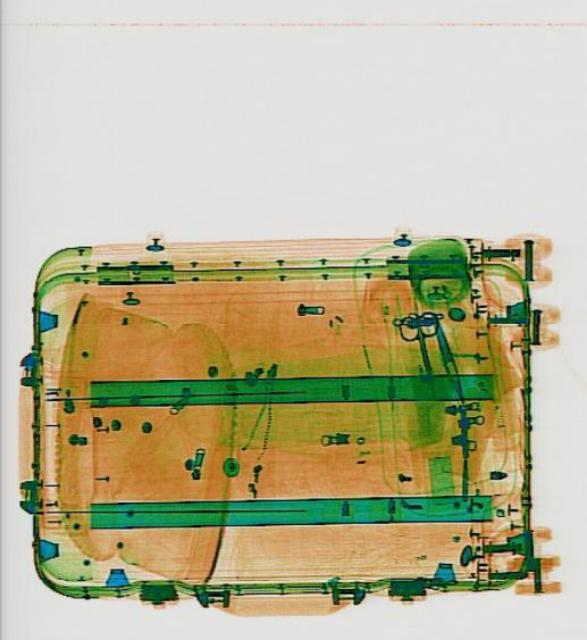Scissors: (396, 308, 448, 388)
